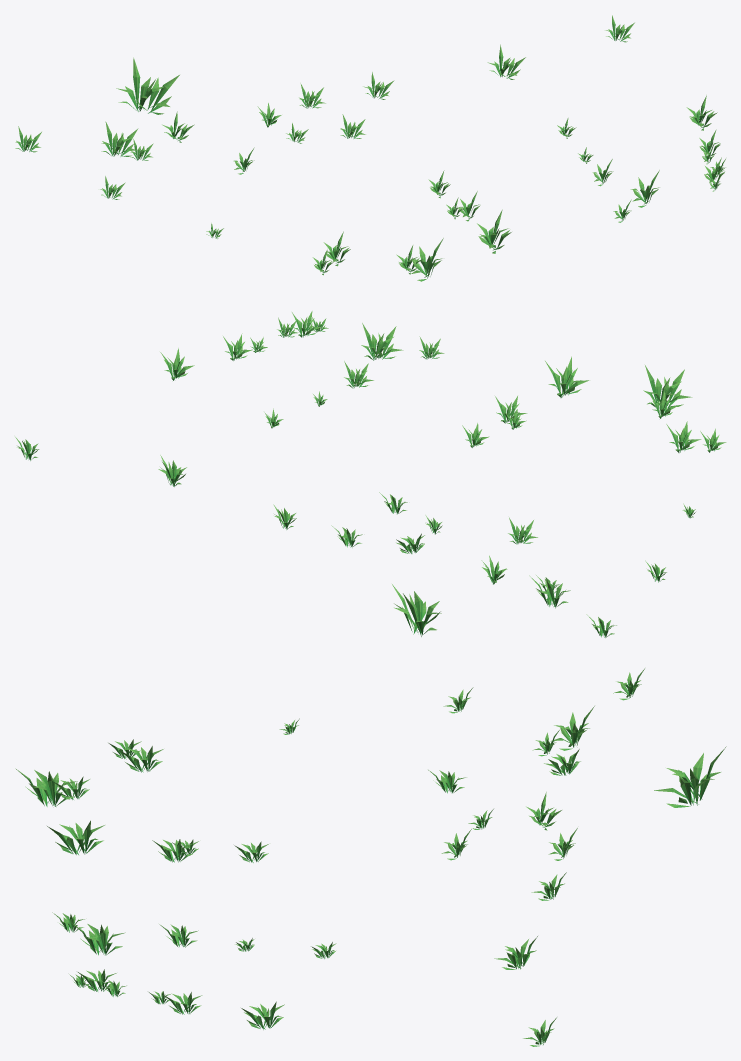
File: Area_05_9.fbx
The picture shows the model from 3 angles, top to bottom: view 1: azimuth 30°, elevation 25°; view 2: azimuth 150°, elevation 25°; view 3: azimuth 270°, elevation 25°; orthographic projection. The views are drawn at different scales.
Parts seen in each view (by area): view 1: Area_05_9; view 2: Area_05_9; view 3: Area_05_9.
Boxes of the visible parts, left/top/right/bottom form: Area_05_9: left=15, top=15, right=725, bottom=281; Area_05_9: left=15, top=311, right=726, bottom=637; Area_05_9: left=15, top=668, right=726, bottom=1046.
Bounding box in the file's own units: 2530 × 201 × 2089.
